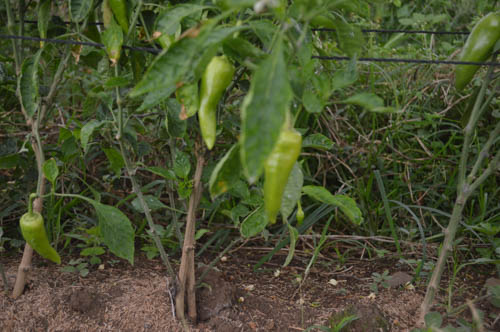ChiliPepper: (266, 131, 301, 218), (200, 59, 231, 153), (460, 15, 498, 91), (22, 215, 60, 261)
